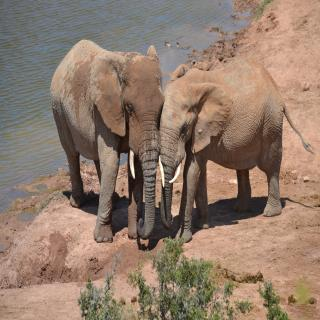Elephant: (160, 56, 314, 247), (50, 37, 163, 249)
